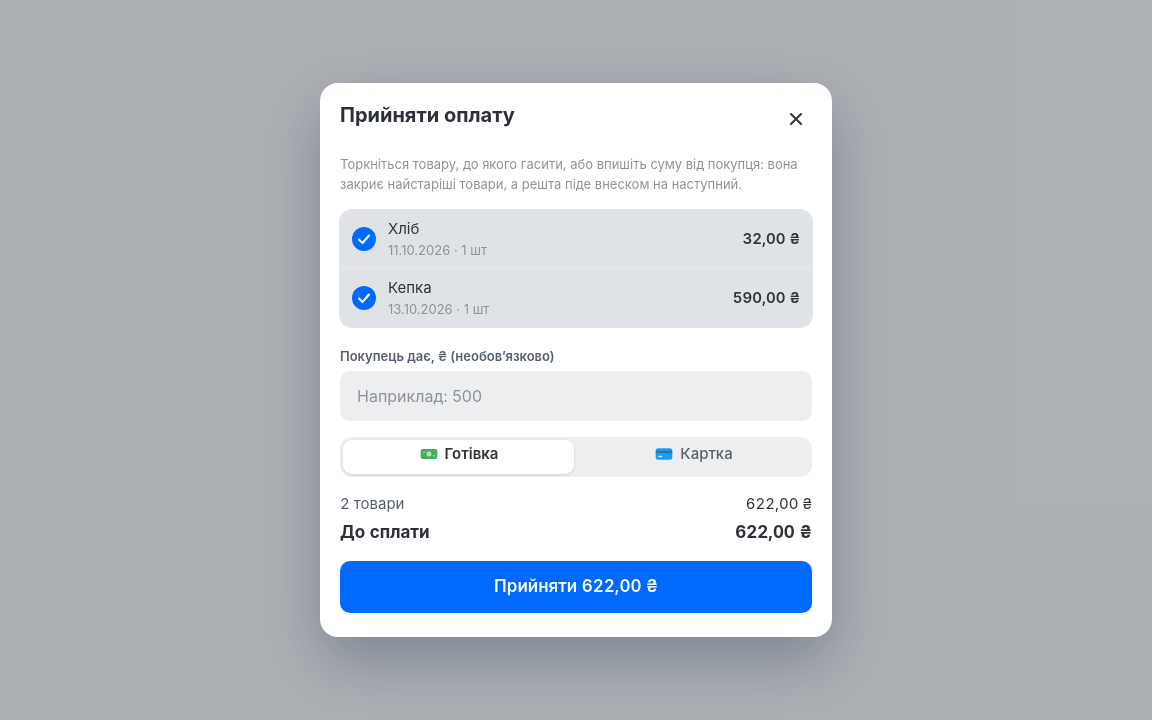
Scenario: PaySheet › goes back to whole lines when a line is tapped after a typed sum
Step 1. Type "300" into the field with placeholder "Наприклад: 500" → {"x": 576, "y": 396}, box left=340, top=371, right=812, bottom=421
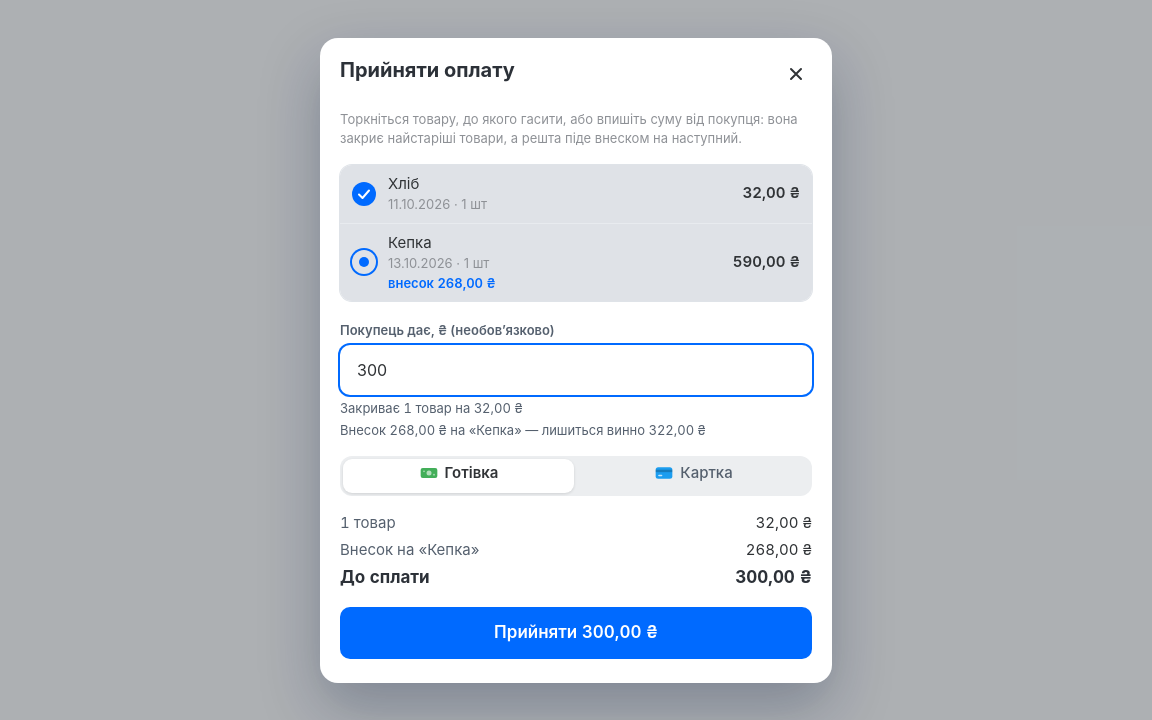
Result: the text with test id "debts-pay-due" reads "300,00 ₴" at left=735, top=567, right=812, bottom=587
Step 2. Click the button "Хліб 11.10.2026 · 1 шт 32,00 ₴" → {"x": 404, "y": 183}, box left=340, top=164, right=812, bottom=222
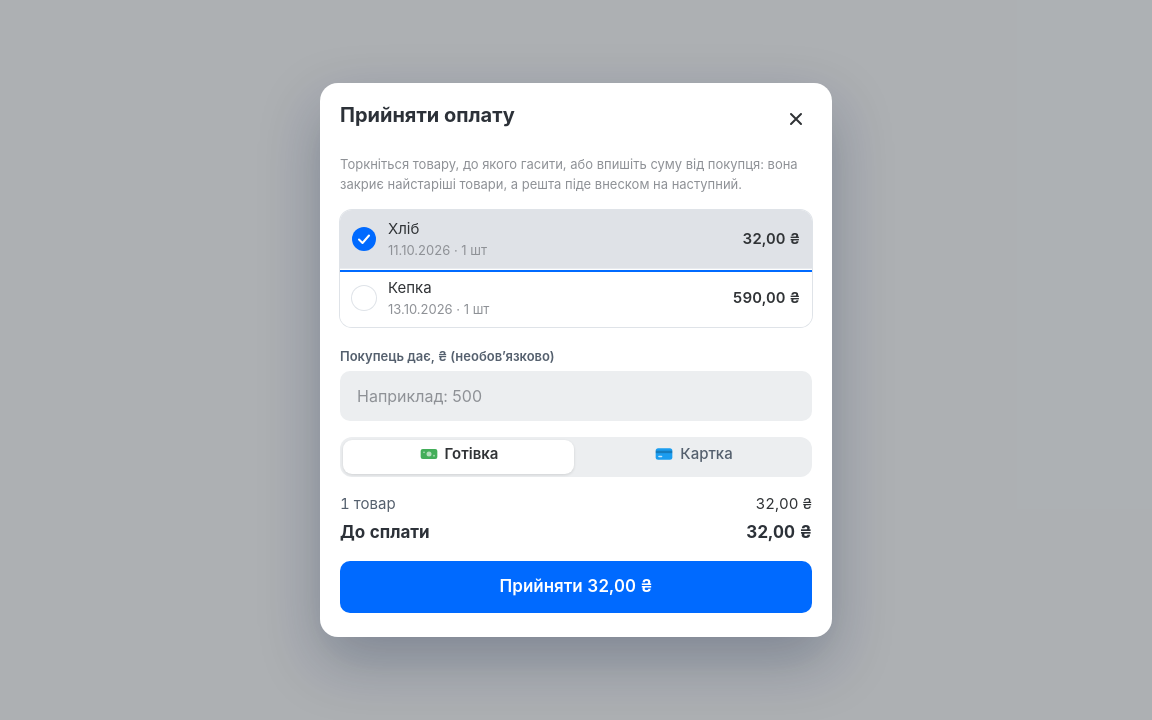
Result: the field with placeholder "Наприклад: 500" is empty at left=340, top=371, right=812, bottom=421
Result: the element with test id "debts-pay-offer" is gone
